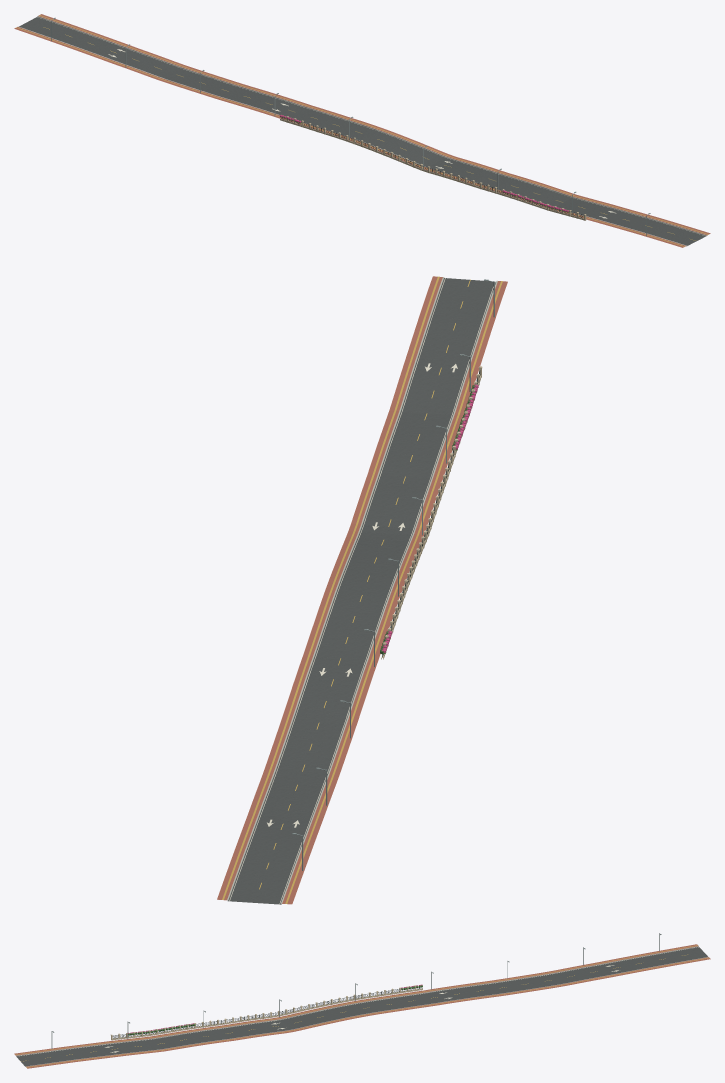
Rendered from infra-road-01.glb.
3 views of the same model, one above another, from view 1: azimuth 30°, elevation 25°; view 2: azimuth 150°, elevation 25°; view 3: azimuth 270°, elevation 25° (orthographic). The views are drawn at different scales.
Visible parts, largest first — view 1: infra-road-01; view 2: infra-road-01; view 3: infra-road-01.
Boxes of the visible parts, bbox=[...] form: infra-road-01: bbox=[14, 14, 710, 247]; infra-road-01: bbox=[217, 276, 507, 904]; infra-road-01: bbox=[14, 933, 710, 1068].
Bounding box in the file's own units: 112 × 10.33 × 256.
12 materials, 1 textured.
